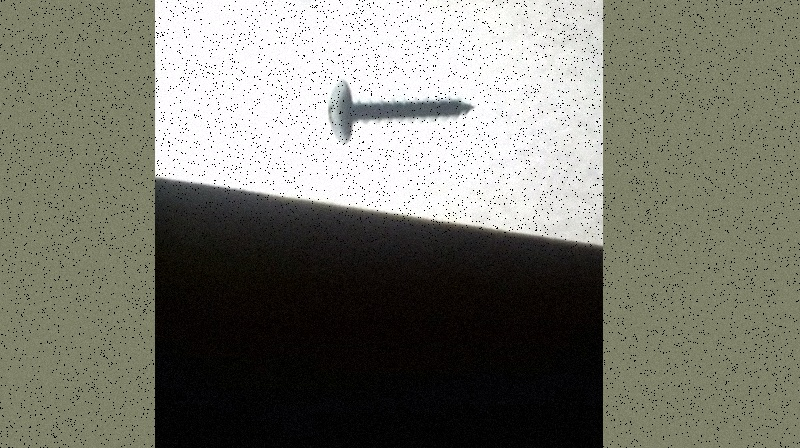S003: (321, 74, 477, 148)
